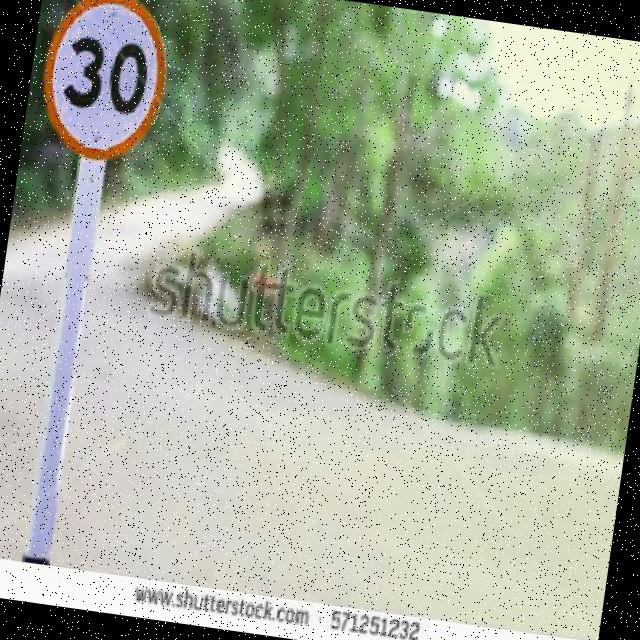Ograniczenie predkosci do 30: (29, 0, 179, 173)
